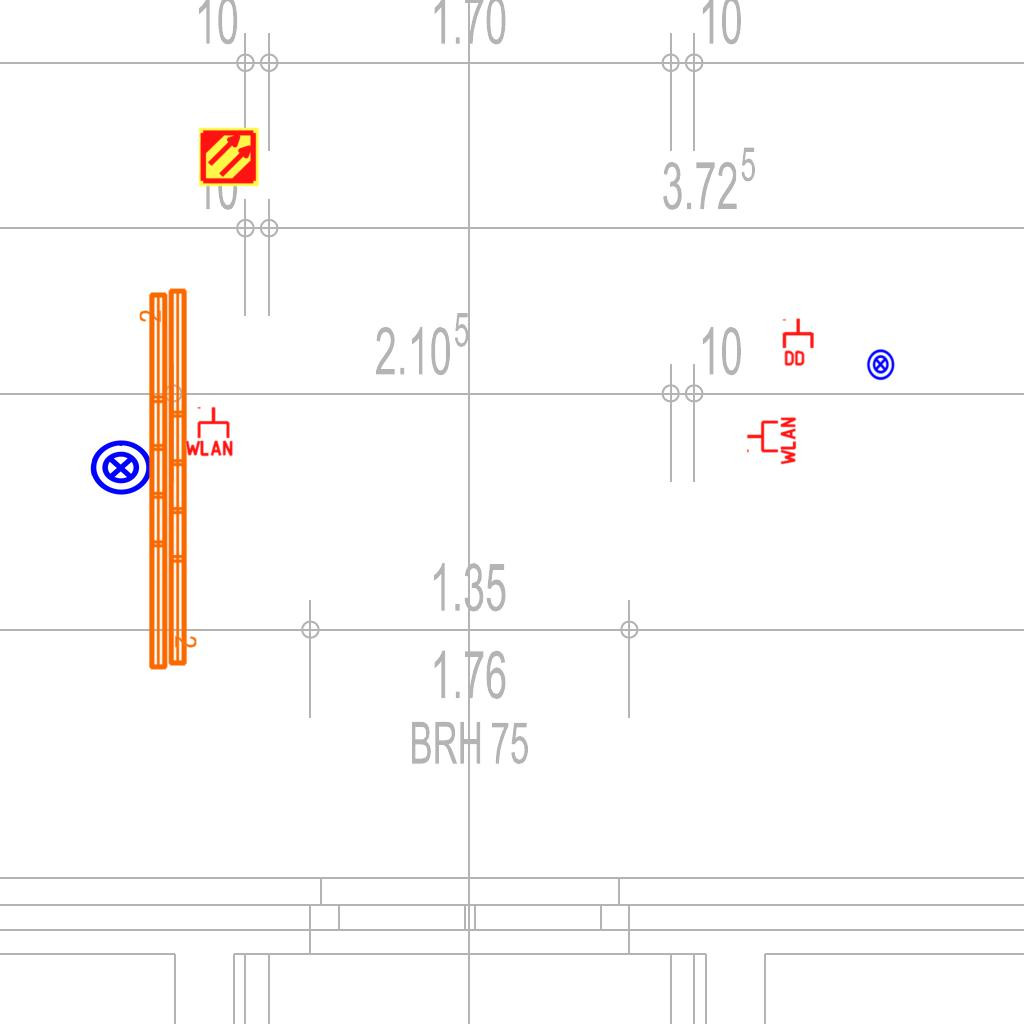ASR_Ansaugrauchmelder: (198, 126, 260, 188)
Ambulanz_Pendelleuchte_LED: (137, 284, 193, 671), (143, 287, 199, 674)
Datenanschluss_zweifach: (782, 317, 816, 368)
Taster_beleuchtet: (87, 434, 155, 502), (864, 348, 897, 381)
WLAN: (183, 405, 235, 457), (745, 415, 797, 467)
